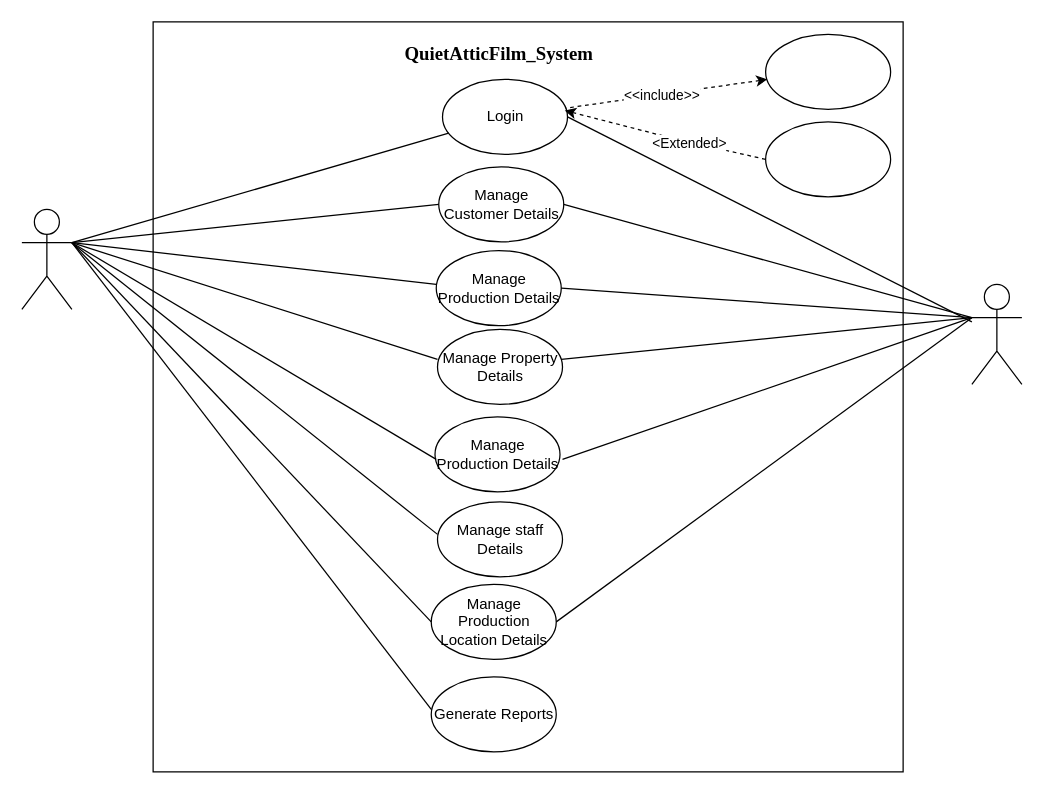
Image size: 1044x794. Some labels were removed from this diagram. Here are the shapes that lost their labels. From the top down, the box of each, then its label:
(764, 33, 891, 109): Verify username and password
(764, 121, 891, 197): Show error message
(21, 208, 72, 309): Admin
(971, 283, 1022, 384): Staff
